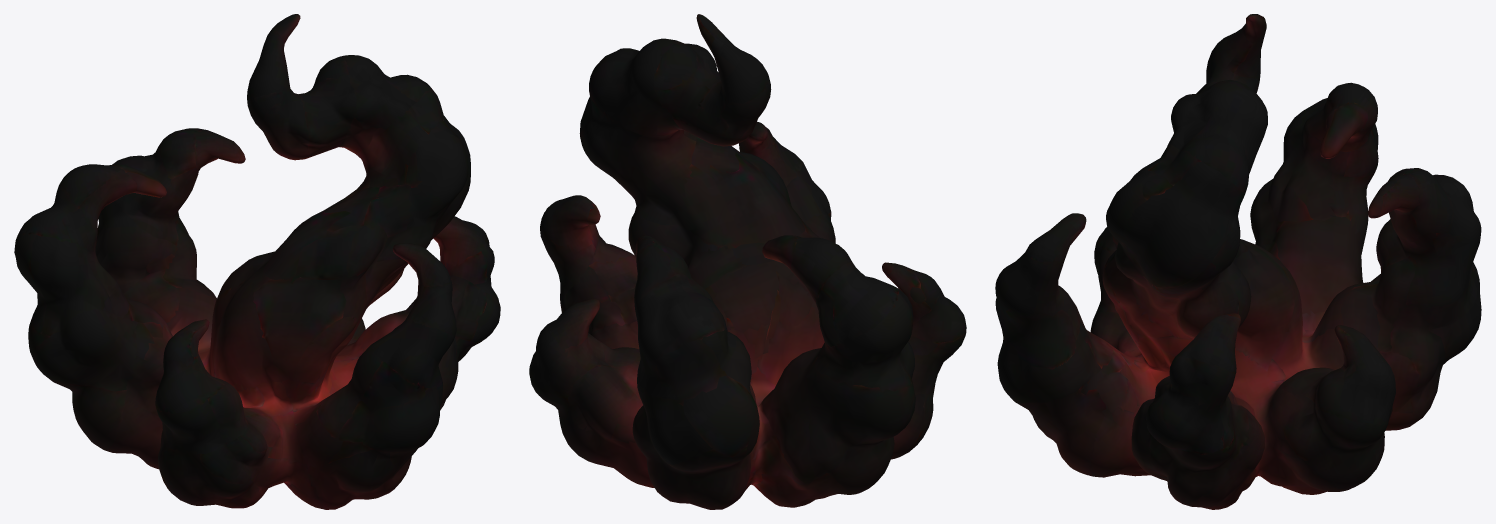
File: blackFlame.glb
The picture shows the model from 3 angles, left to right: view 1: azimuth 30°, elevation 25°; view 2: azimuth 150°, elevation 25°; view 3: azimuth 270°, elevation 25°; orthographic projection. The views are drawn at different scales.
Bounding box in the file's own units: 1.86 × 1.9 × 1.79.
1 material, 1 textured.
